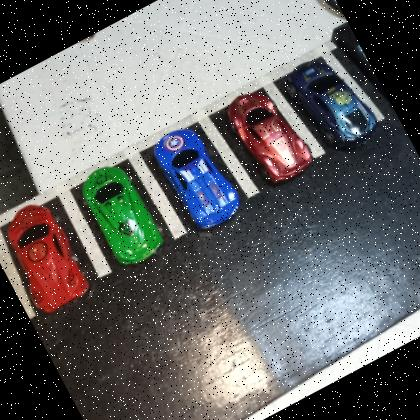Car: (68, 151, 176, 276), (144, 116, 249, 238), (0, 192, 99, 321), (217, 74, 323, 194), (280, 42, 386, 162)
